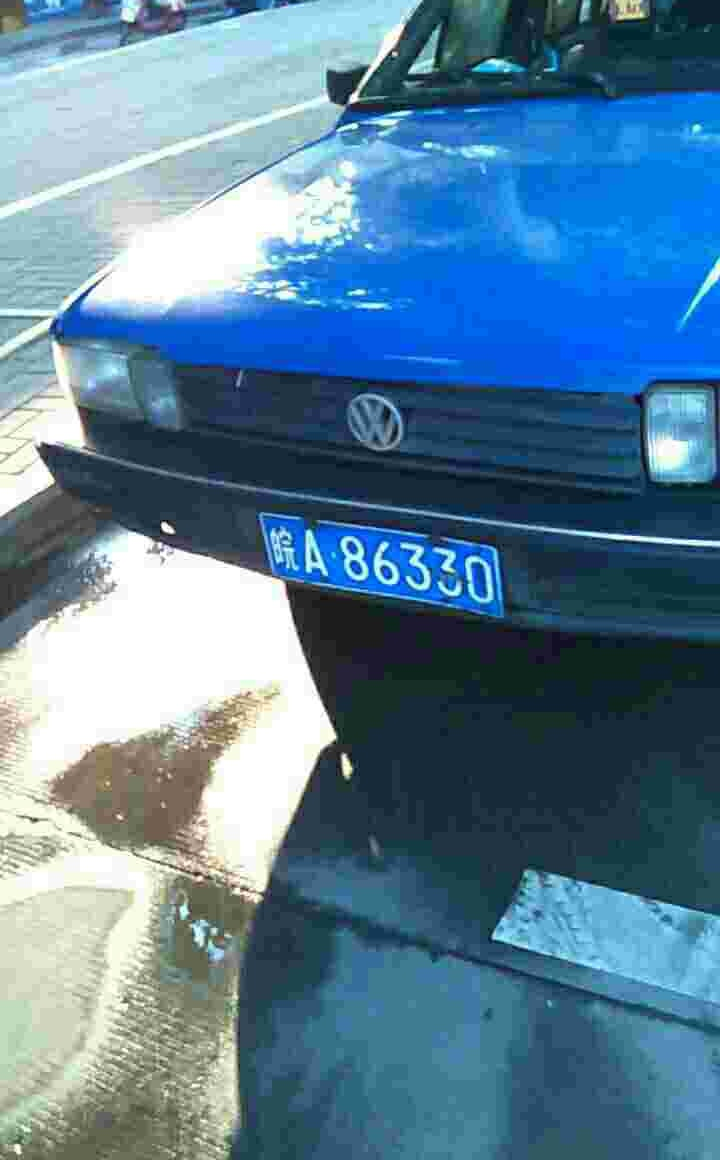car: (261, 516, 498, 614)
